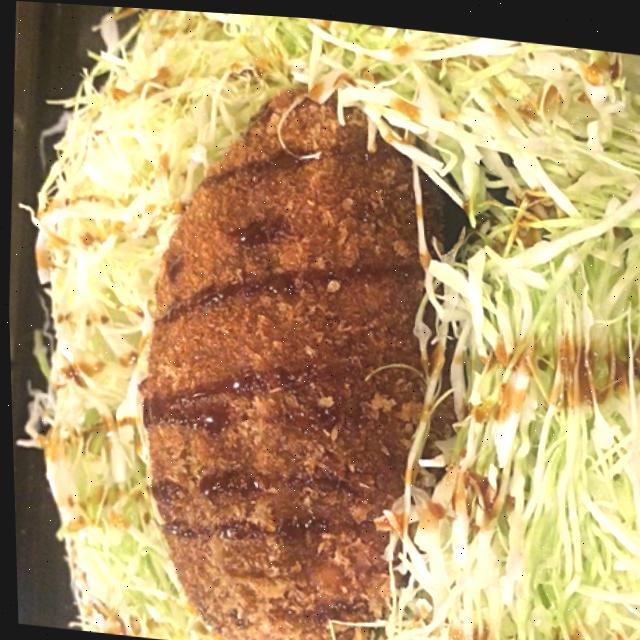炸货点心: (96, 35, 515, 640)
